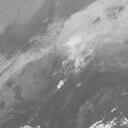cyclone: (43, 35, 99, 74)
